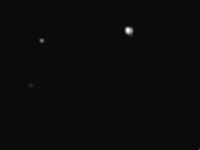target: (124, 26, 134, 36), (38, 37, 46, 44), (27, 82, 34, 88), (174, 48, 179, 53)
